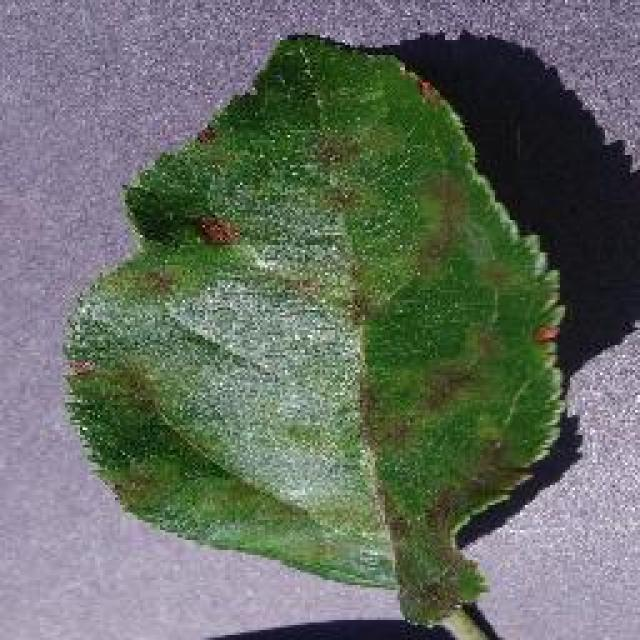App_scab: (355, 344, 529, 618), (180, 184, 250, 278)
